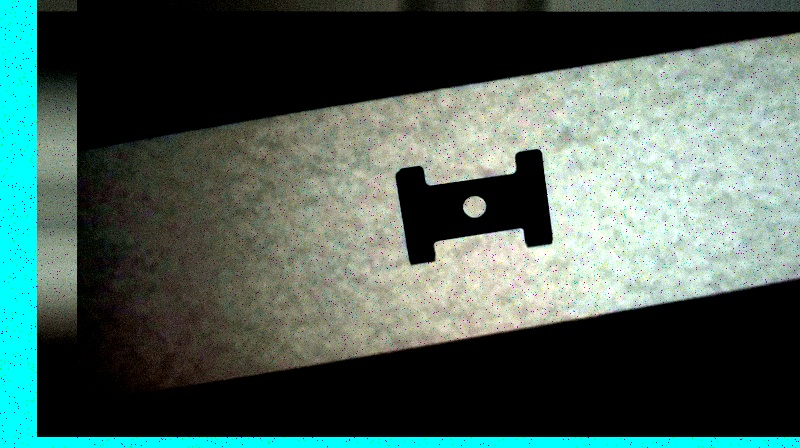O002: (392, 146, 554, 265)
